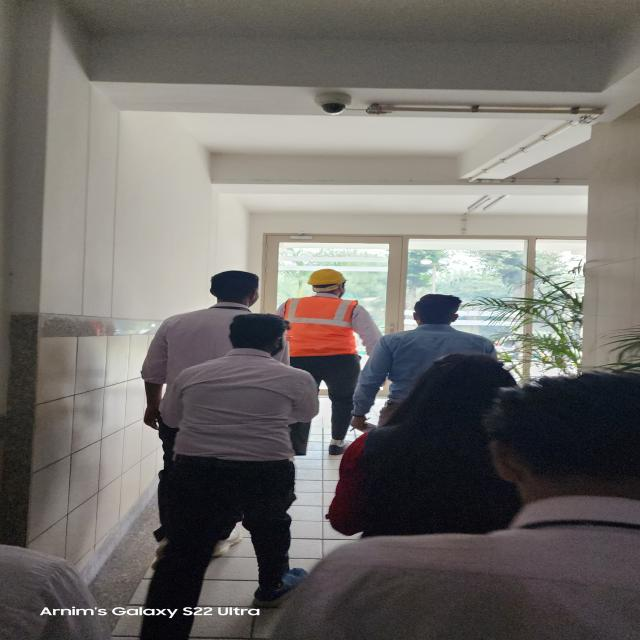safe: (280, 269, 380, 457)
unsafe: (158, 314, 318, 640), (328, 340, 525, 544), (138, 263, 280, 440), (362, 290, 507, 439)
